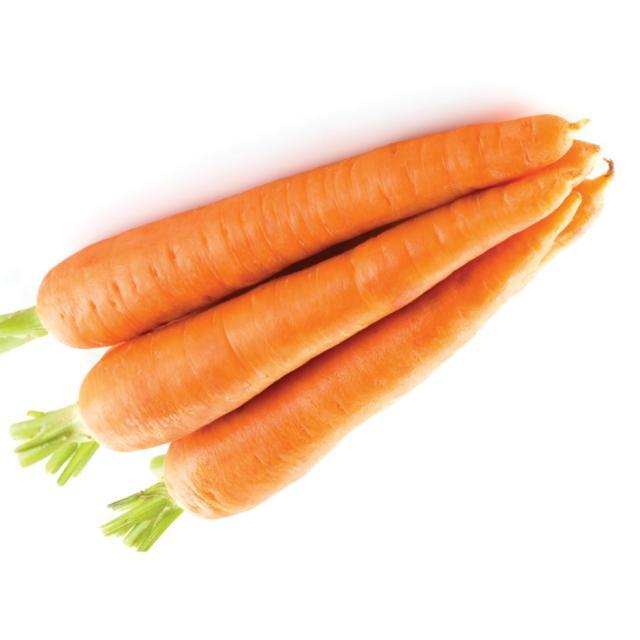carrot: (164, 194, 584, 526), (74, 177, 571, 457), (32, 115, 576, 351)
